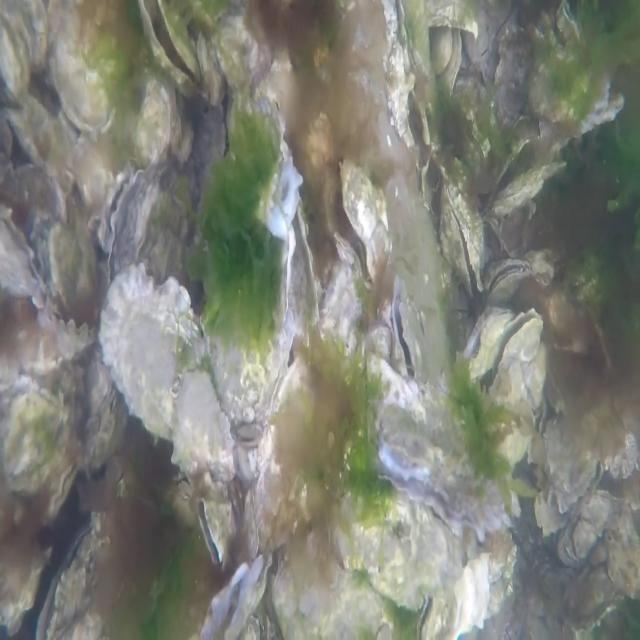Oyster-Closed: (54, 2, 122, 132), (492, 160, 570, 219), (46, 452, 87, 526), (44, 304, 98, 353), (403, 0, 431, 76), (364, 320, 392, 366)
Oyster-Indeterminate: (105, 267, 241, 479), (341, 499, 468, 613), (255, 352, 318, 532), (0, 381, 82, 494), (11, 94, 80, 196), (0, 0, 51, 102), (48, 216, 104, 308), (319, 258, 362, 362), (134, 85, 178, 172)
Oyster-Open: (216, 0, 304, 240), (378, 400, 513, 544), (35, 516, 115, 640), (326, 152, 388, 291), (537, 400, 604, 510), (382, 0, 431, 150), (200, 550, 274, 640), (484, 306, 545, 412), (141, 0, 203, 94), (0, 205, 49, 314), (439, 186, 487, 296), (284, 200, 320, 340), (96, 162, 142, 266), (465, 308, 519, 379), (393, 277, 426, 382), (197, 496, 234, 566), (488, 260, 532, 302)
